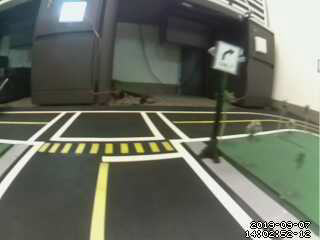Right_only_sign: (217, 37, 243, 78)
